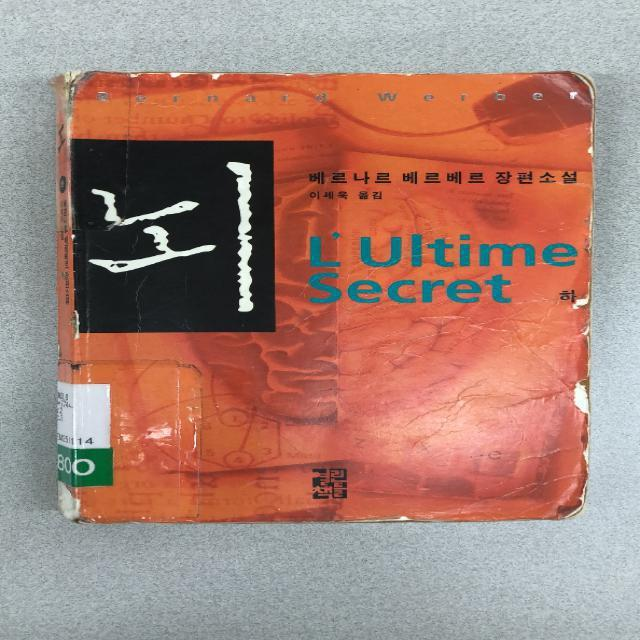Ripped: (41, 64, 106, 120), (569, 375, 600, 475), (48, 481, 84, 527), (568, 266, 596, 318), (571, 318, 596, 376)
Wornout: (565, 67, 601, 161), (105, 70, 240, 88), (570, 180, 600, 258), (244, 69, 350, 91), (333, 507, 443, 528), (375, 69, 448, 91), (63, 305, 91, 344), (64, 228, 83, 245)
